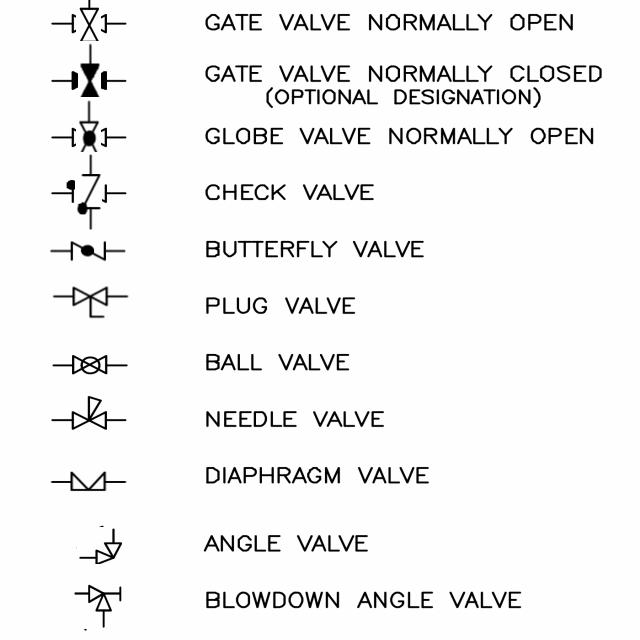AngleValve: (77, 527, 123, 565)
BallValve: (50, 353, 130, 377)
BlowDownAngleValve: (75, 583, 123, 631)
ButterflyValve: (51, 240, 129, 263)
CheckValve: (63, 166, 117, 219)
ClosedGateValve: (65, 56, 116, 107)
DiaphramValve: (50, 471, 129, 493)
NeedleValve: (49, 393, 131, 433)
OpenGateValve: (61, 1, 116, 52)
OpenGlobeValve: (63, 112, 116, 165)
PlugValve: (51, 284, 130, 321)
